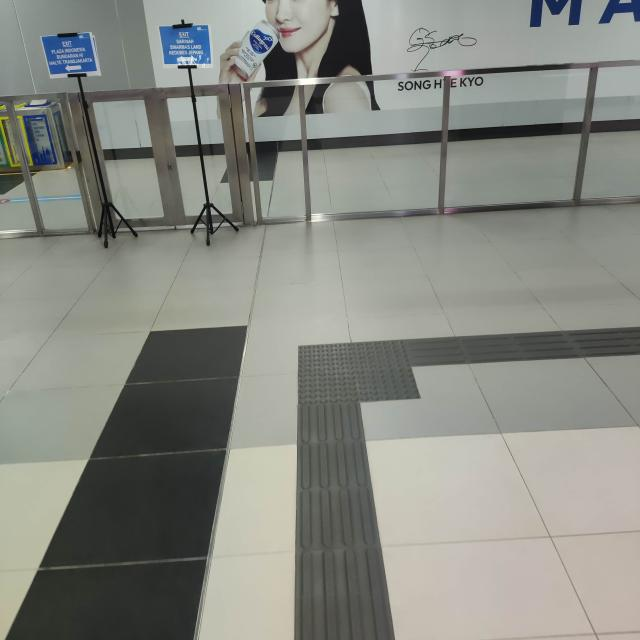kanan: (262, 314, 510, 433)
